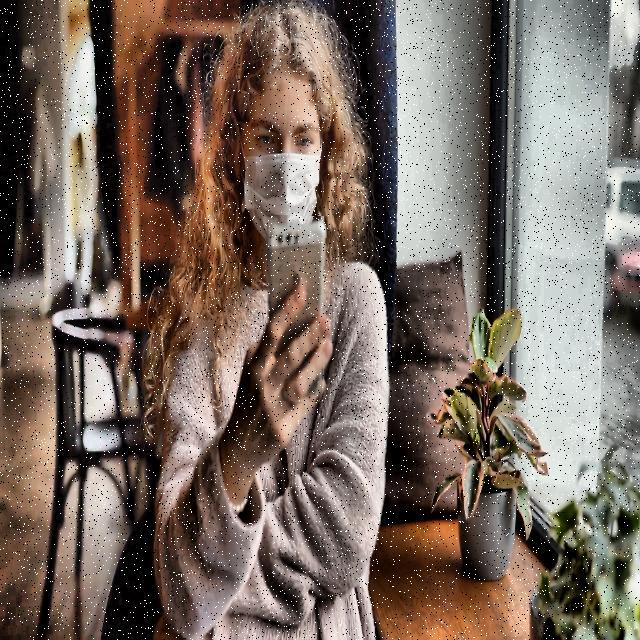Phone: (266, 216, 326, 402)
